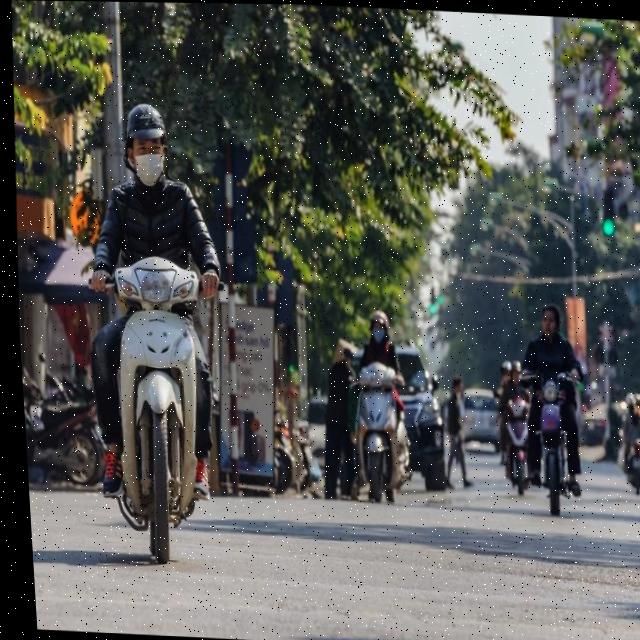motorcycle: (69, 233, 239, 580), (517, 363, 592, 518), (344, 364, 412, 505), (498, 370, 559, 504), (616, 430, 640, 498)
